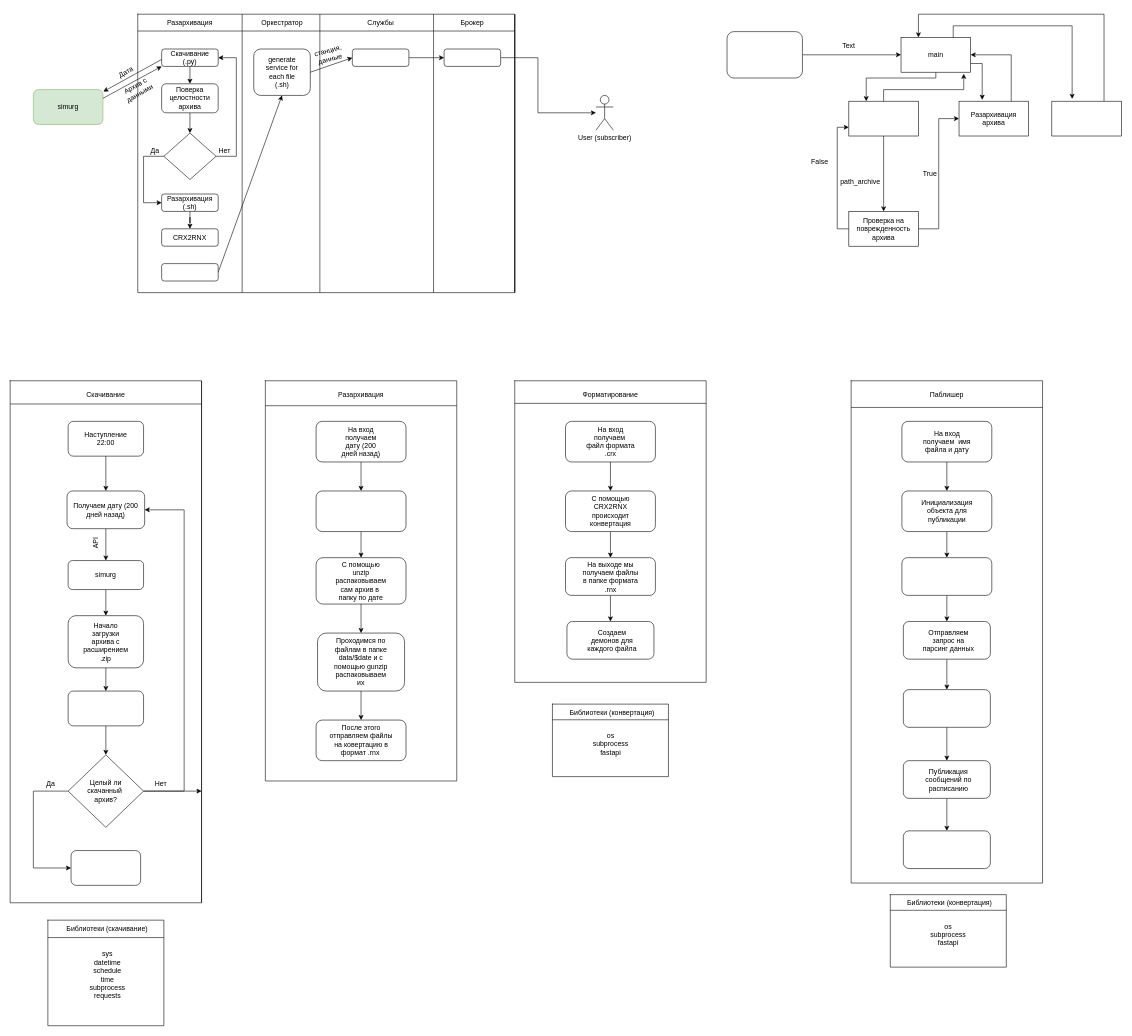
This 1132x1036 diagram has some shape labels left out. Each missing label, with the centre of its shape:
"broker (mosquitto)" belongs at (472,57).
"daemon (i) (pub.py)" belongs at (380,57).
"Архив целый?" belongs at (189,156).
"вызов subprocess" belongs at (189,272).
"Добавляем к дате расширение .zip" belongs at (361,511).
"Конец загрузки архива" belongs at (106,708).
"Настройка планировщика при получении данных для парсинга" belongs at (946,708).
"Отправка сообщений через брокер на сабскрайбер" belongs at (946,849).
"Переход к разархивации с помощью subprocess.run" belongs at (105,867).
"Планировщик Запускается в 22:00" belongs at (764,54).
"Скрипт скачивание" belongs at (883,118).
"Устанавливаем соединение, запускаем цикл публикации данных" belongs at (946,576).
"Форматирование crx -> rnx" belongs at (1086,118).
